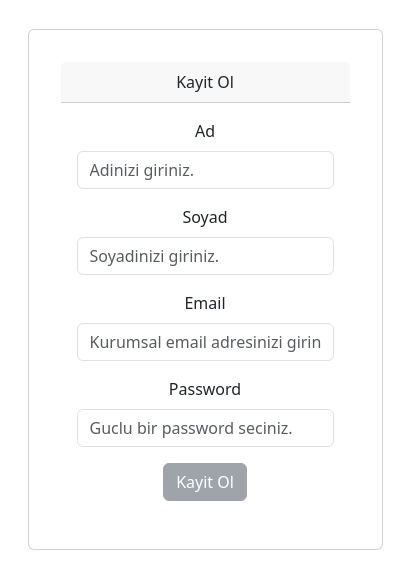
Register Page › Error Messages › Name throws error for 2 chars
Type "me" into the field labelled "Ad".
click(206, 170); type("me")  # box [77,151,334,189]
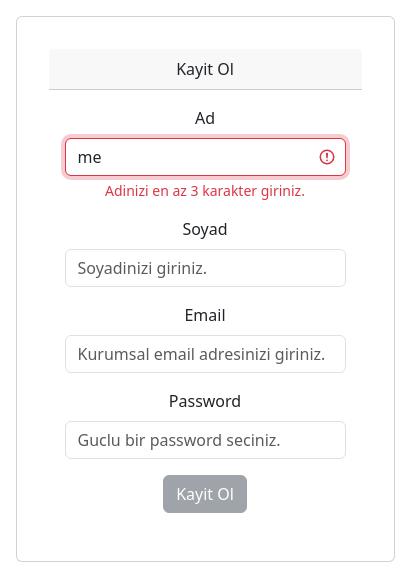
Check: the text "Adinizi en az 3 karakter giriniz." is shown, box [105,181,305,200]
